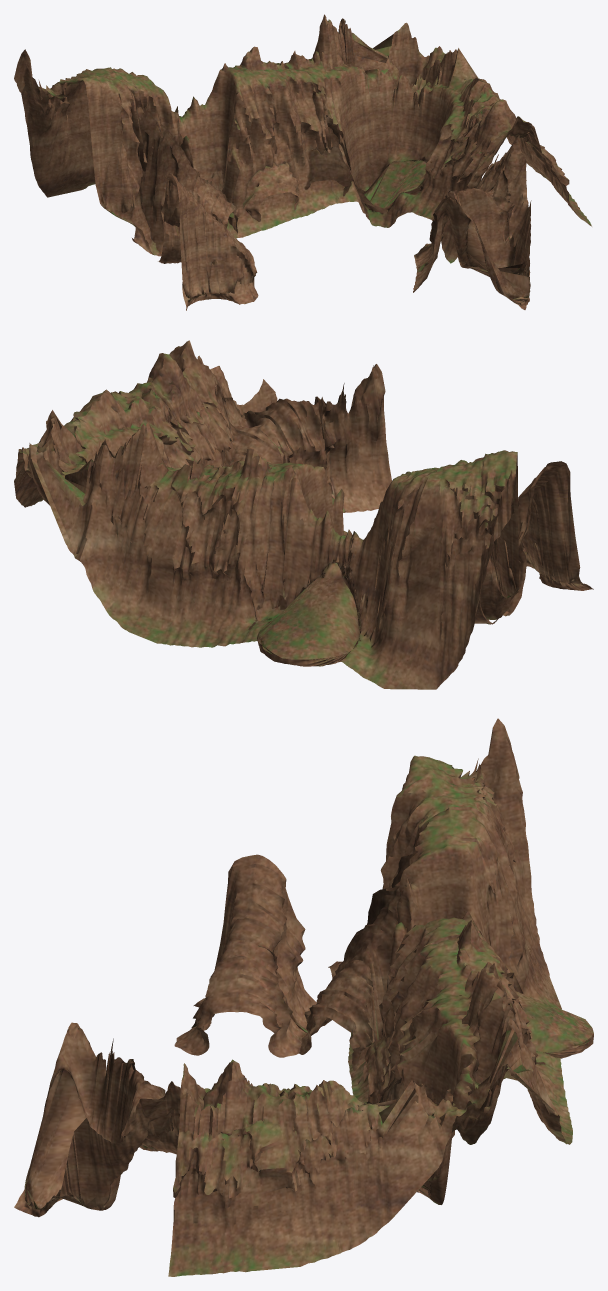
The model's file is island_cliffs.glb.
3 renders of one model, top to bottom at view 1: azimuth 30°, elevation 25°; view 2: azimuth 150°, elevation 25°; view 3: azimuth 270°, elevation 25°, orthographic. The views are drawn at different scales.
Parts seen in each view (by area): view 1: Cliffs_LOD0; view 2: Cliffs_LOD0; view 3: Cliffs_LOD0.
Boxes of the visible parts, x1=… form: Cliffs_LOD0: x1=14, y1=14, x2=591, y2=310; Cliffs_LOD0: x1=14, y1=340, x2=593, y2=689; Cliffs_LOD0: x1=14, y1=718, x2=593, y2=1276.
Size of what is drawn, in the model's own units: 234 by 102 by 190.
1 material, 1 textured.
